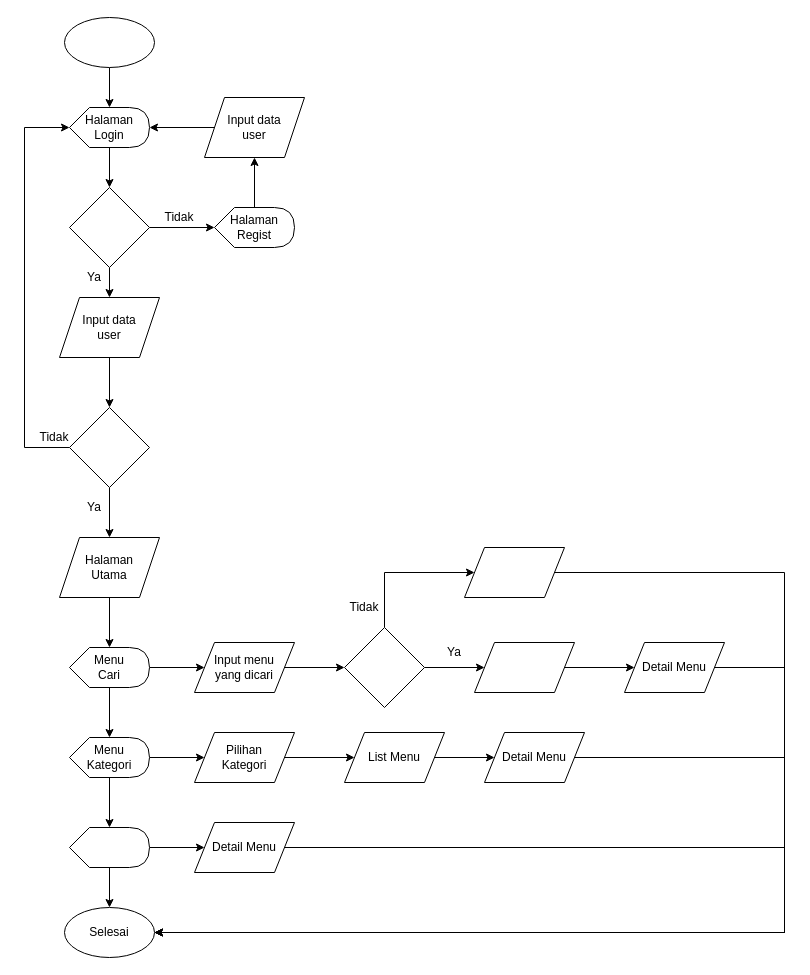
The diagram is 810 pixels wide and 975 high, and some of its shapes have lost their labels. Each missing label, with the box of its shape:
Autentifikasi: (68, 406, 150, 488)
Menu ditemukan: (344, 626, 424, 708)
Menu Harian: (68, 826, 150, 868)
Menu tidak ditemukan: (464, 546, 564, 598)
Menu yang dicari: (474, 642, 574, 692)
Mulai: (64, 16, 154, 68)
Punya akun?: (68, 186, 150, 268)
